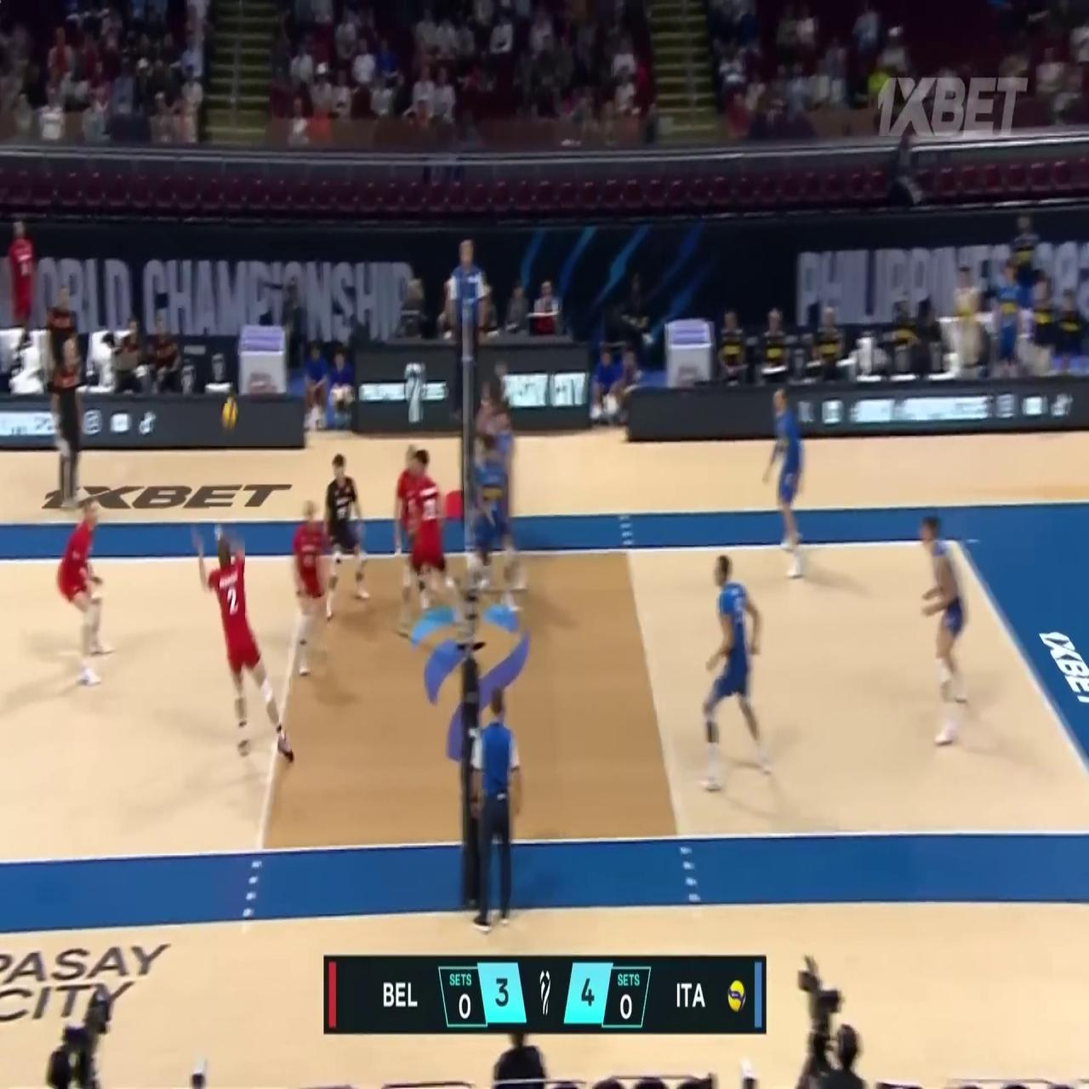ball: (221, 398, 237, 430)
